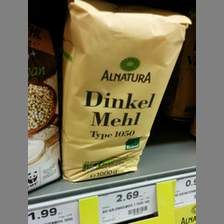flour: (61, 2, 189, 183)
